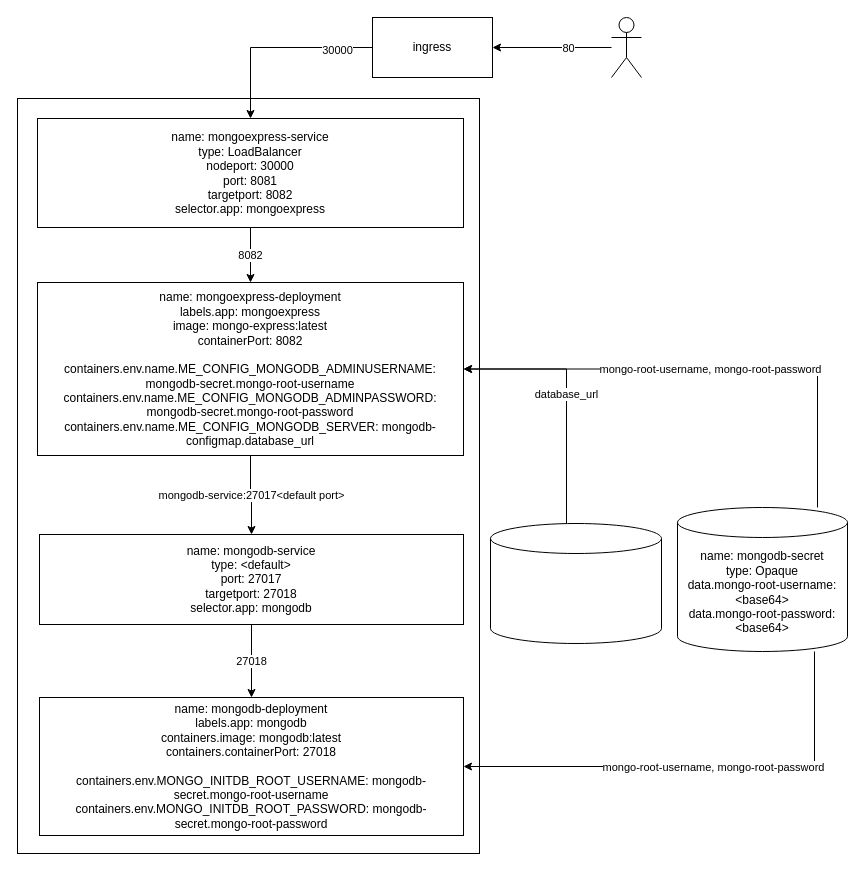
This 865x871 diagram has some shape labels left out. Here are the shapes that lost their labels. From the top down, the centre of each, then its label:
At point 626,47: "Actor".
At point 576,583: "name: mongodb-configmap database_url: mongodb-service".
